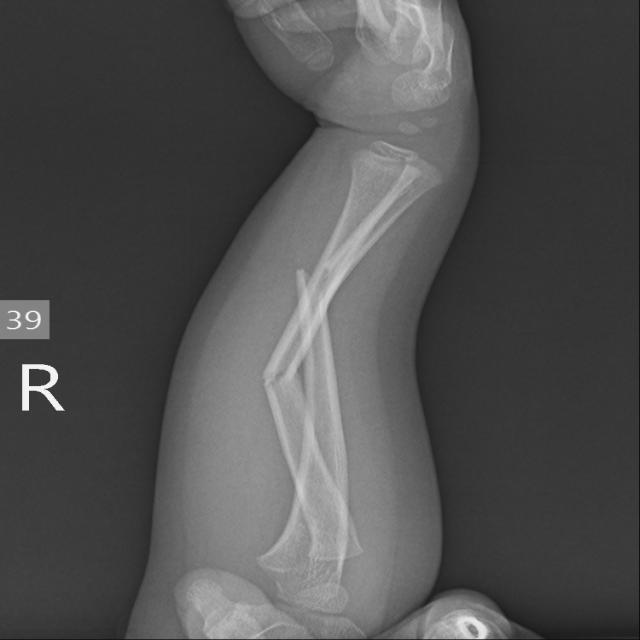bone: (251, 248, 352, 430)
